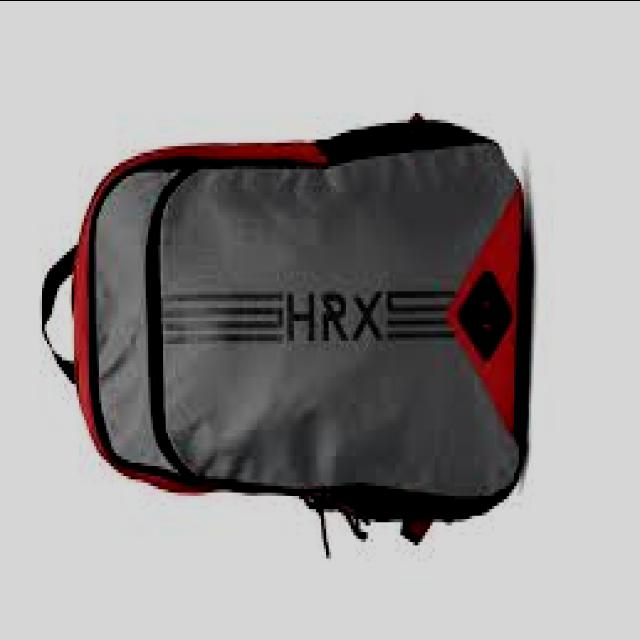backpack: (40, 113, 530, 559)
